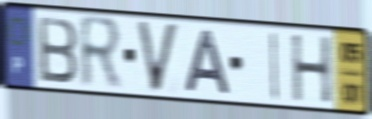A: (181, 27, 234, 97)
B: (36, 14, 80, 86)
H: (289, 33, 334, 106)
I: (269, 29, 280, 102)
R: (77, 13, 125, 93)
V: (134, 18, 182, 96)
